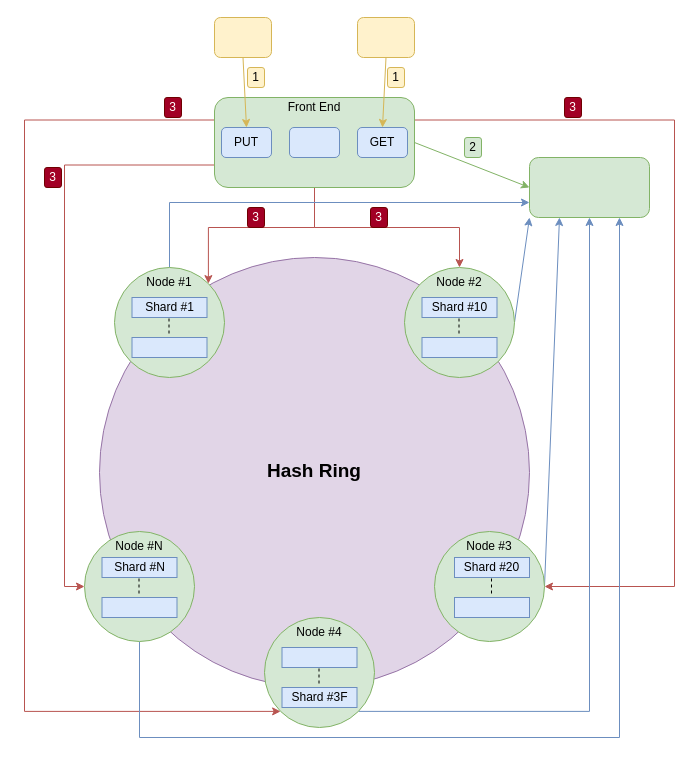
This 700x763 diagram has some shape labels left out. The centre of each missing label's shape, as x and y in pixels:
Client #1: the point at 243,37
Client #N: the point at 385,37
DELETE: the point at 314,142
Shard #1F: the point at 459,347
Shard #2F: the point at 492,607
Shard #30: the point at 319,657
Shard #F: the point at 169,347
Shard #M: the point at 139,607
Zookeeper: the point at 589,187
